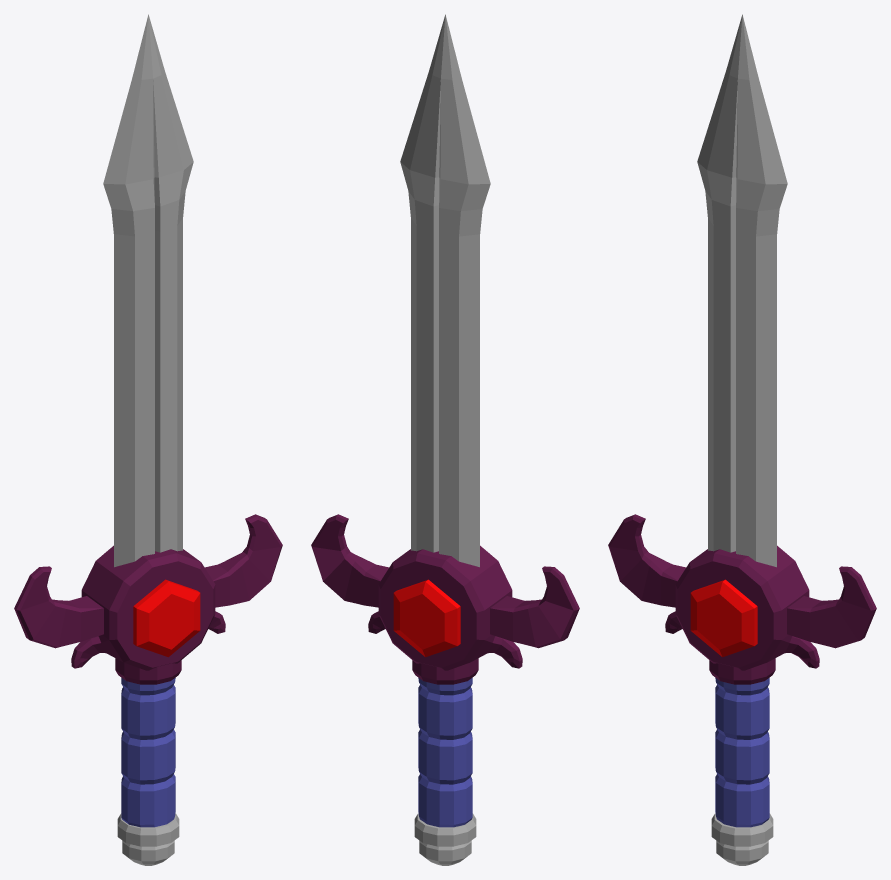
The model's file is M_Sword.obj.
3 views of the same model, side by side, from view 1: azimuth 30°, elevation 25°; view 2: azimuth 150°, elevation 25°; view 3: azimuth 330°, elevation 25° (orthographic).
Visible parts, largest first — view 1: Blade, Guard, Handle, Gem, Cap, GuardLow; view 2: Blade, Guard, Handle, Gem, Cap, GuardLow; view 3: Blade, Guard, Handle, Gem, Cap, GuardLow.
Boxes of the visible parts, x1,y1,x2,y2 form: Blade: [103, 14, 193, 567]; Guard: [14, 514, 282, 670]; Handle: [121, 678, 175, 827]; Gem: [133, 579, 200, 657]; Cap: [117, 813, 179, 865]; GuardLow: [115, 658, 181, 684]; Blade: [400, 14, 490, 567]; Guard: [311, 514, 579, 670]; Handle: [418, 678, 472, 827]; Gem: [393, 579, 460, 657]; Cap: [414, 813, 476, 865]; GuardLow: [412, 658, 478, 684]; Blade: [697, 14, 787, 567]; Guard: [608, 514, 876, 670]; Handle: [715, 678, 769, 827]; Gem: [690, 579, 757, 657]; Cap: [711, 813, 773, 865]; GuardLow: [709, 658, 775, 684].
Size of the model in its own units: 3.13 by 9.5 by 0.9375.
Materials: 1 (1 with a texture image).
